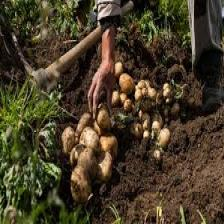Diseased-fungal potato: (83, 129, 103, 156), (96, 100, 112, 130), (118, 72, 134, 94)
